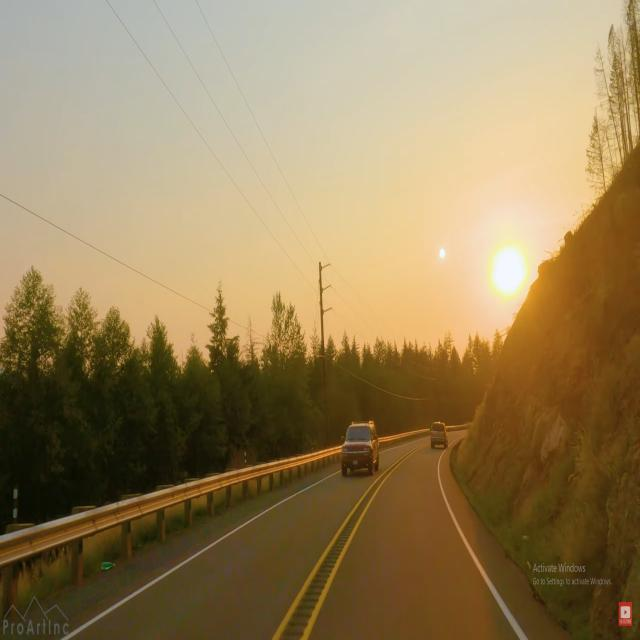sun: (482, 226, 538, 316)
